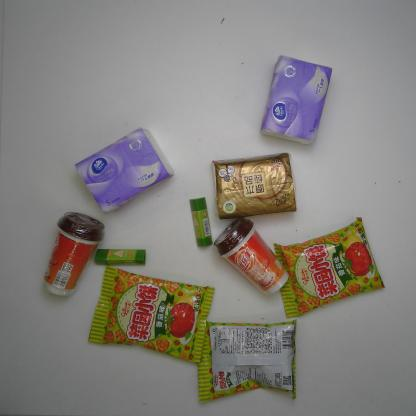Instant Drink: (211, 213, 290, 297), (40, 210, 107, 298)
Puffed Food: (86, 264, 217, 365), (273, 217, 386, 318), (196, 316, 300, 404)
Stationery: (189, 195, 213, 247), (93, 247, 146, 268)
Tissue: (73, 126, 176, 215), (260, 52, 335, 150), (209, 148, 298, 223)
